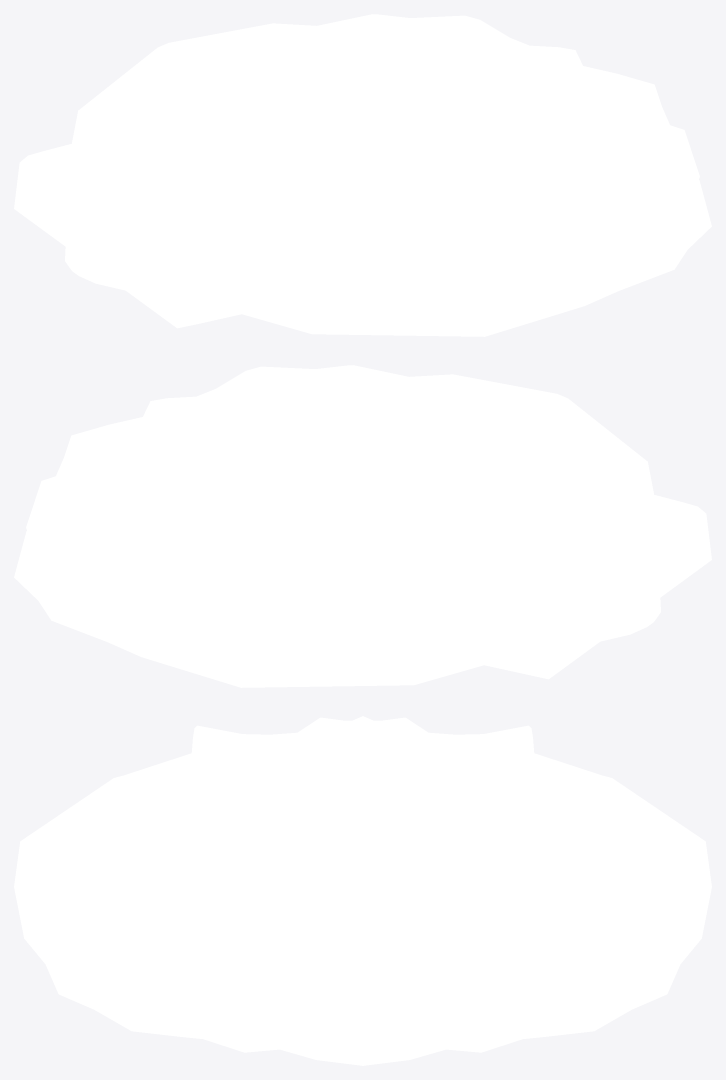
File: shell.gltf
3 renders of one model, top to bottom at view 1: azimuth 30°, elevation 25°; view 2: azimuth 150°, elevation 25°; view 3: azimuth 270°, elevation 25°, orthographic. The views are drawn at different scales.
Parts seen in each view (by area): view 1: shell; view 2: shell; view 3: shell.
Part boxes in pixels (<box>): shell: <box>14,14,711,336</box>; shell: <box>14,365,711,687</box>; shell: <box>14,716,711,1065</box>.
Size of the model in its own units: 23.86 by 2.31 by 23.28.
1 material, 1 textured.
